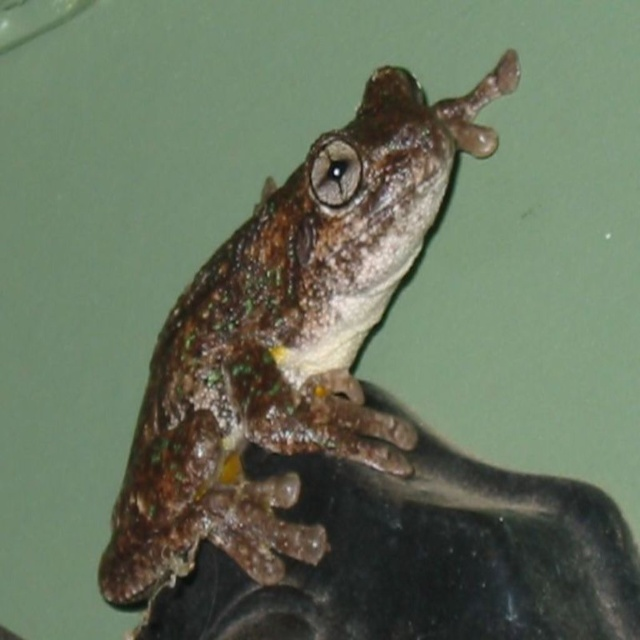Frog: (98, 48, 521, 604)
